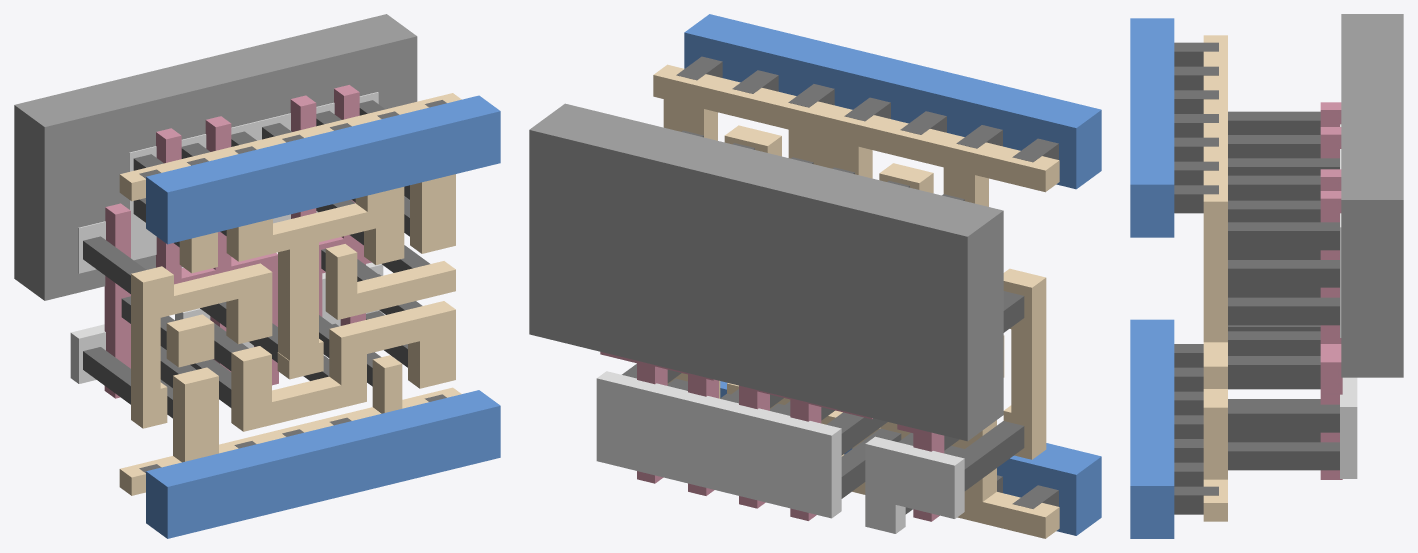
The model's file is sky130_fd_sc_hd__nand2b_2.gds.gltf.
The picture shows the model from 3 angles, left to right: view 1: azimuth 30°, elevation 25°; view 2: azimuth 150°, elevation 25°; view 3: azimuth 270°, elevation 25°; orthographic projection. The views are drawn at different scales.
Parts seen in each view (by area): view 1: sky130_fd_sc_hd__nand2b_2_li1, sky130_fd_sc_hd__nand2b_2_met1, sky130_fd_sc_hd__nand2b_2_nwell, sky130_fd_sc_hd__nand2b_2_licon, sky130_fd_sc_hd__nand2b_2_poly, sky130_fd_sc_hd__nand2b_2_diff, sky130_fd_sc_hd__nand2b_2_mcon; view 2: sky130_fd_sc_hd__nand2b_2_nwell, sky130_fd_sc_hd__nand2b_2_li1, sky130_fd_sc_hd__nand2b_2_diff, sky130_fd_sc_hd__nand2b_2_met1, sky130_fd_sc_hd__nand2b_2_licon, sky130_fd_sc_hd__nand2b_2_mcon, sky130_fd_sc_hd__nand2b_2_poly; view 3: sky130_fd_sc_hd__nand2b_2_licon, sky130_fd_sc_hd__nand2b_2_nwell, sky130_fd_sc_hd__nand2b_2_met1, sky130_fd_sc_hd__nand2b_2_mcon, sky130_fd_sc_hd__nand2b_2_li1, sky130_fd_sc_hd__nand2b_2_poly, sky130_fd_sc_hd__nand2b_2_diff.
Part boxes in pixels (bbox=[...]): sky130_fd_sc_hd__nand2b_2_li1: bbox=[119, 93, 461, 495]; sky130_fd_sc_hd__nand2b_2_met1: bbox=[146, 95, 500, 538]; sky130_fd_sc_hd__nand2b_2_nwell: bbox=[14, 14, 417, 300]; sky130_fd_sc_hd__nand2b_2_licon: bbox=[83, 100, 429, 418]; sky130_fd_sc_hd__nand2b_2_poly: bbox=[104, 85, 371, 398]; sky130_fd_sc_hd__nand2b_2_diff: bbox=[70, 92, 383, 383]; sky130_fd_sc_hd__nand2b_2_mcon: bbox=[139, 100, 446, 472]; sky130_fd_sc_hd__nand2b_2_nwell: bbox=[529, 103, 1003, 441]; sky130_fd_sc_hd__nand2b_2_li1: bbox=[653, 64, 1059, 538]; sky130_fd_sc_hd__nand2b_2_diff: bbox=[596, 371, 964, 533]; sky130_fd_sc_hd__nand2b_2_met1: bbox=[684, 14, 1101, 535]; sky130_fd_sc_hd__nand2b_2_licon: bbox=[622, 130, 1024, 514]; sky130_fd_sc_hd__nand2b_2_mcon: bbox=[676, 56, 1058, 508]; sky130_fd_sc_hd__nand2b_2_poly: bbox=[600, 352, 944, 521]; sky130_fd_sc_hd__nand2b_2_licon: bbox=[1228, 111, 1339, 470]; sky130_fd_sc_hd__nand2b_2_nwell: bbox=[1341, 14, 1403, 377]; sky130_fd_sc_hd__nand2b_2_met1: bbox=[1130, 18, 1174, 538]; sky130_fd_sc_hd__nand2b_2_mcon: bbox=[1174, 42, 1218, 514]; sky130_fd_sc_hd__nand2b_2_li1: bbox=[1203, 35, 1227, 521]; sky130_fd_sc_hd__nand2b_2_poly: bbox=[1320, 102, 1342, 479]; sky130_fd_sc_hd__nand2b_2_diff: bbox=[1340, 124, 1357, 478].
Bounding box in the file's own units: 3.6 × 3.2 × 2.24.
